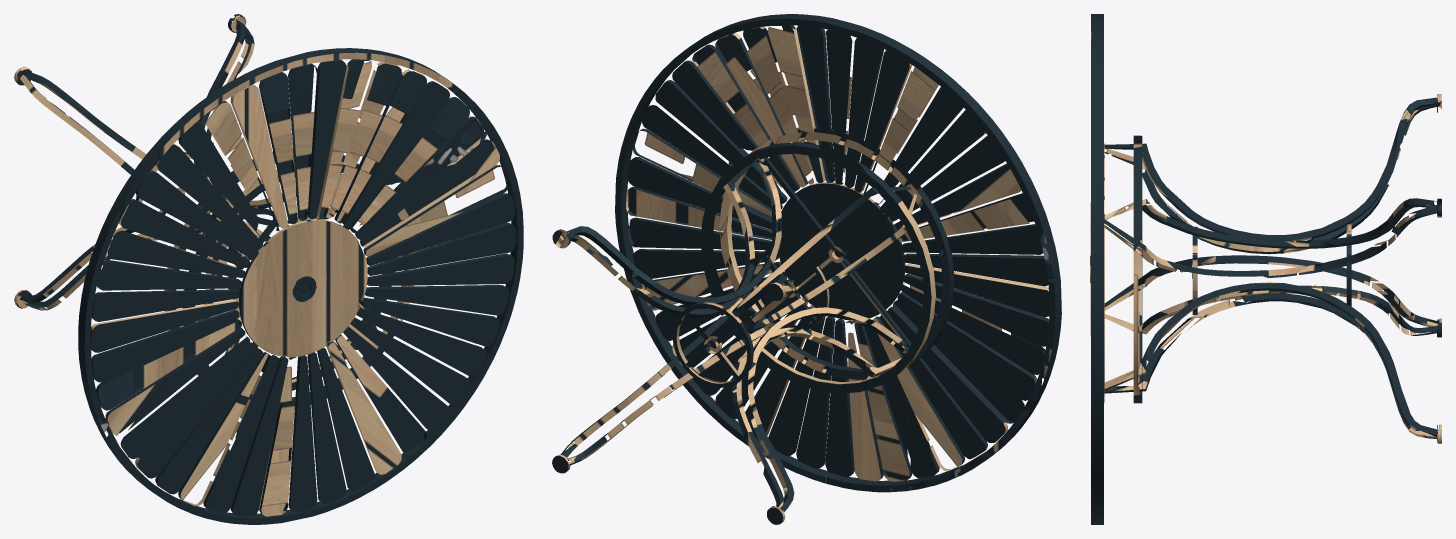
The picture shows the model from 3 angles, left to right: view 1: azimuth 30°, elevation 25°; view 2: azimuth 150°, elevation 25°; view 3: azimuth 270°, elevation 25°; orthographic projection.
Size of the model in its own units: 0.6823 by 0.6823 by 0.4699.
